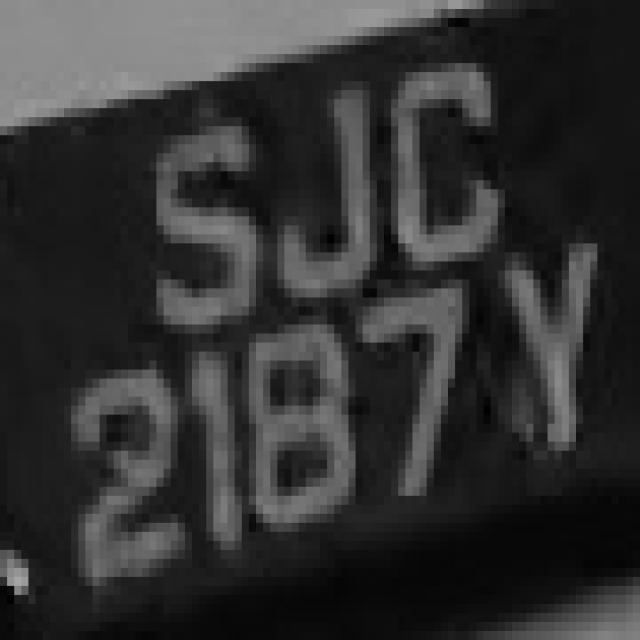1: (185, 306, 249, 595)
2: (64, 342, 185, 586)
7: (342, 270, 462, 514)
8: (228, 261, 362, 550)
C: (370, 27, 498, 288)
J: (249, 54, 384, 316)
S: (121, 90, 263, 361)
Y: (476, 216, 612, 478)
